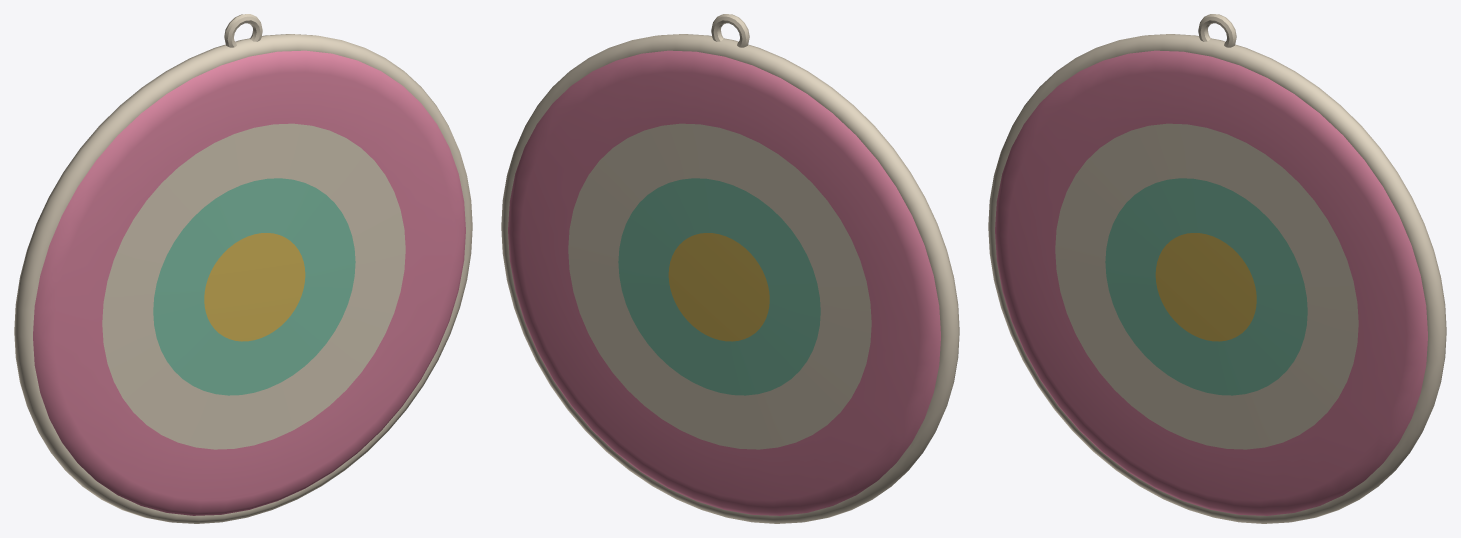
Rendered from Target_Board.fbx.
3 renders of one model, left to right at view 1: azimuth 30°, elevation 25°; view 2: azimuth 150°, elevation 25°; view 3: azimuth 330°, elevation 25°, orthographic.
Parts seen in each view (by area): view 1: Target_Board; view 2: Target_Board; view 3: Target_Board.
Boxes of the visible parts, bbox=[...] form: Target_Board: bbox=[14, 14, 472, 523]; Target_Board: bbox=[501, 14, 959, 523]; Target_Board: bbox=[988, 14, 1446, 523].
Bounding box in the file's own units: 0.315 × 0.3325 × 0.028.
